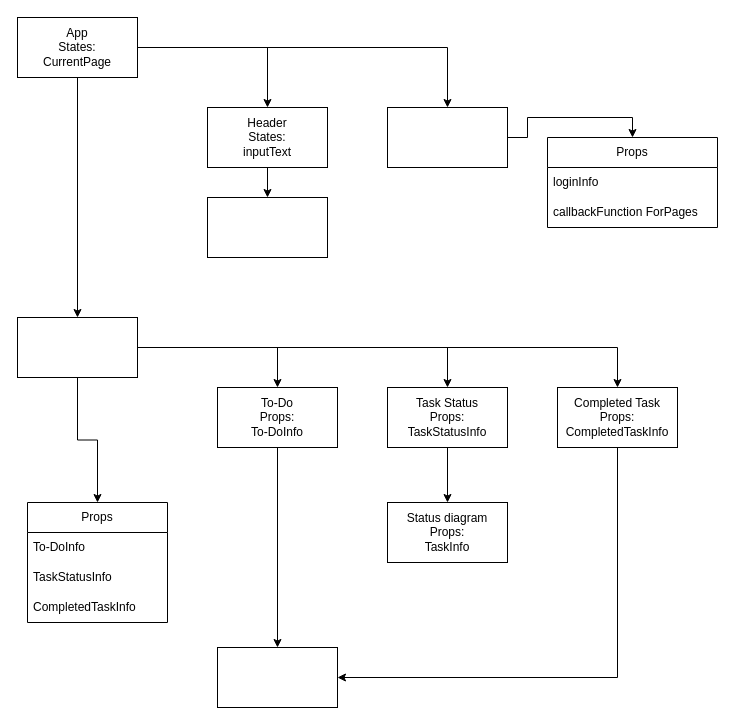
This 735x725 diagram has some shape labels left out. Here are the shapes that lost their labels. From the top down, the centre of each, then its label:
point (447, 137): Sidebar
point (267, 227): SearchBar Props: callbackFunction
point (77, 347): Main
point (277, 677): Task Props: Taskinfo
